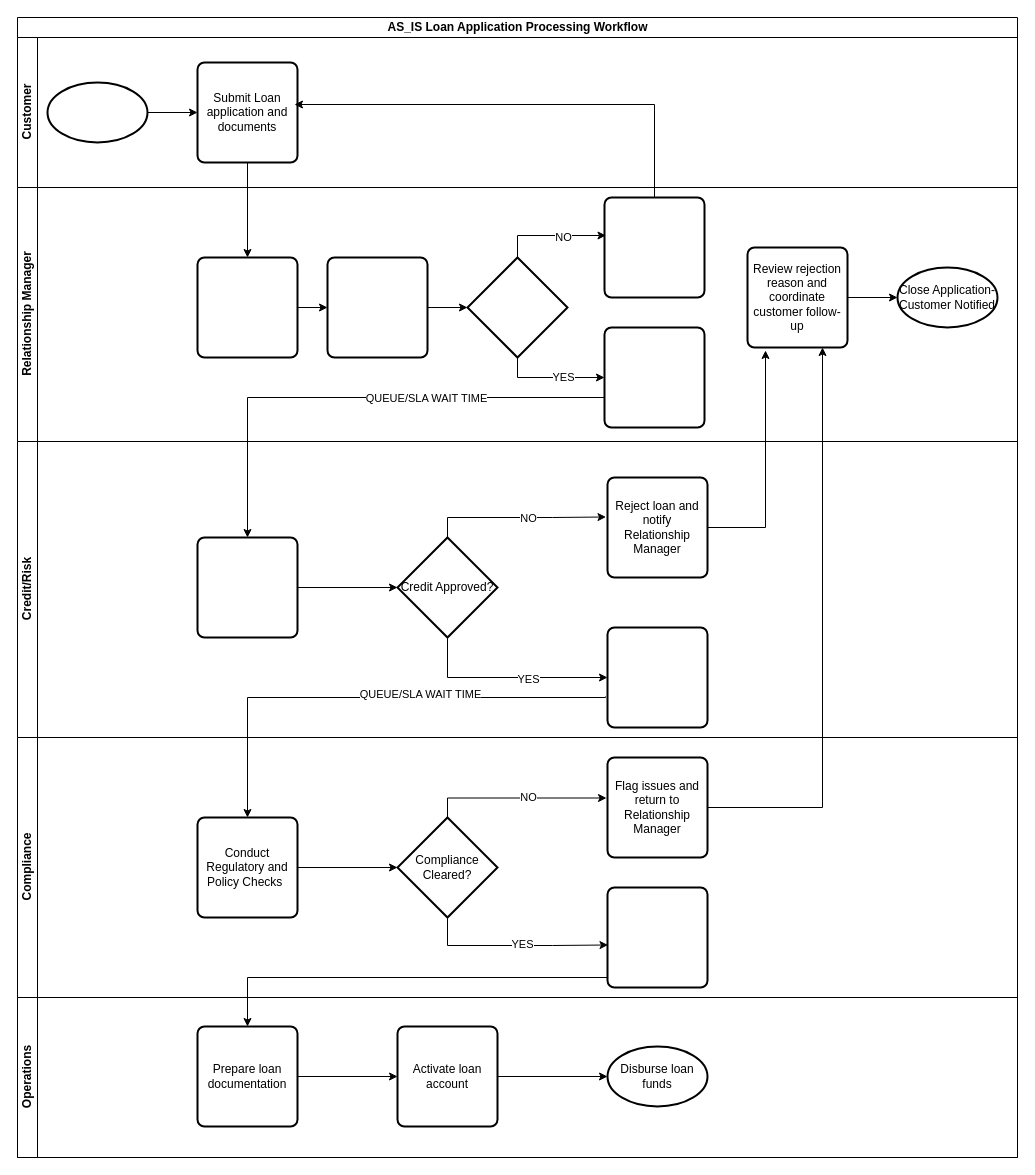
Image size: 1035x1175. Some labels were removed from this diagram. Each missing label, with the centre of its shape:
"Application complete?" belongs at pixel 517 307.
"Approve for processing" belongs at pixel 657 937.
"Customer needs a loan" belongs at pixel 97 112.
"Enter Loan data into Laon Application Registry (LAR)" belongs at pixel 377 307.
"Forward application to Credit/Risk" belongs at pixel 654 377.
"Perform Credit/Risk analysis" belongs at pixel 247 587.
"Receive Loan application and documents" belongs at pixel 247 307.
"Request missing information and documents from the customer" belongs at pixel 654 247.
"Send approved application to Compliance" belongs at pixel 657 677.
